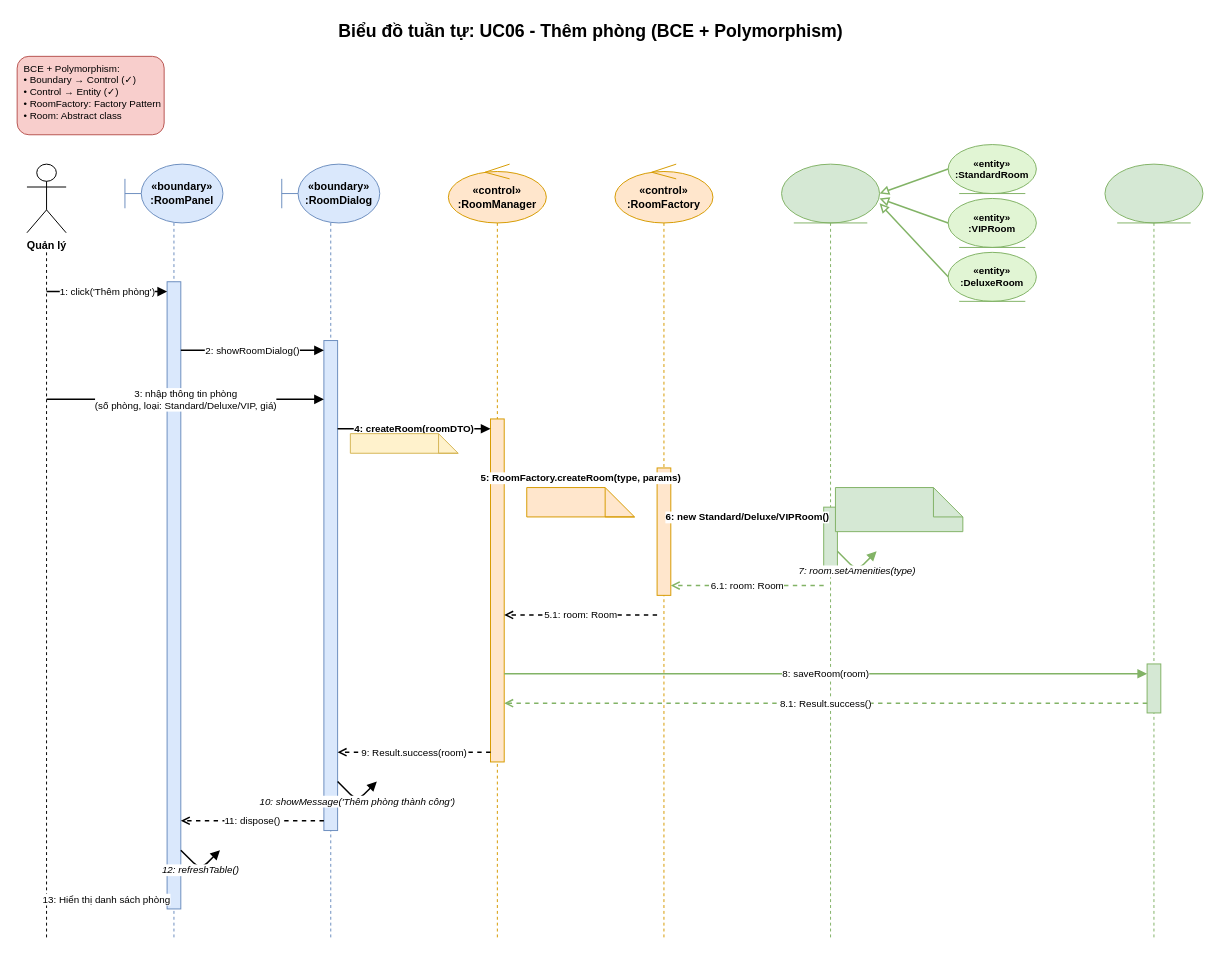
This 1220x956 diagram has some shape labels left out. The shapes that lost their labels are listed below. From the top down, each one's centre as x and y in pixels, then its label:
[830,193]: «entity» :Room (abstract)
[1153,193]: «entity» :DataStorage
[403,443]: ✓ Boundary → Control
[580,502]: ✓ Factory Pattern Tạo đúng loại phòng
[898,509]: ✓ Polymorphism Standard/Deluxe/VIPRoom tùy theo type
